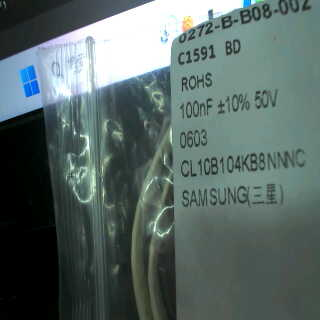100nF: (176, 94, 214, 124)
